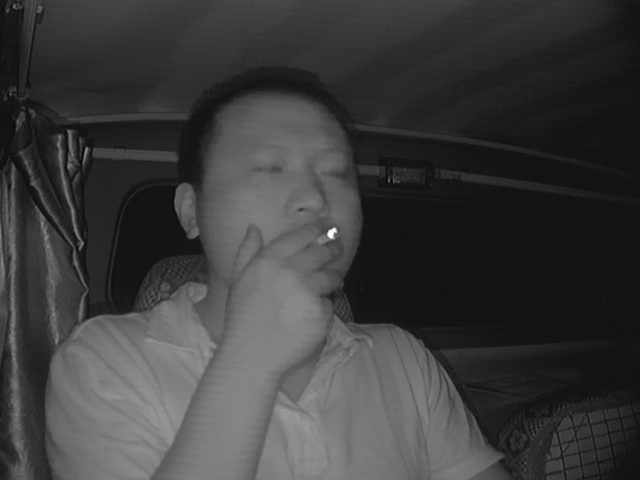hand: (260, 221, 347, 332)
